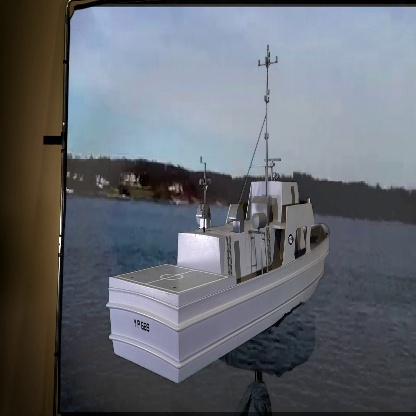YP689: (108, 43, 332, 383)
